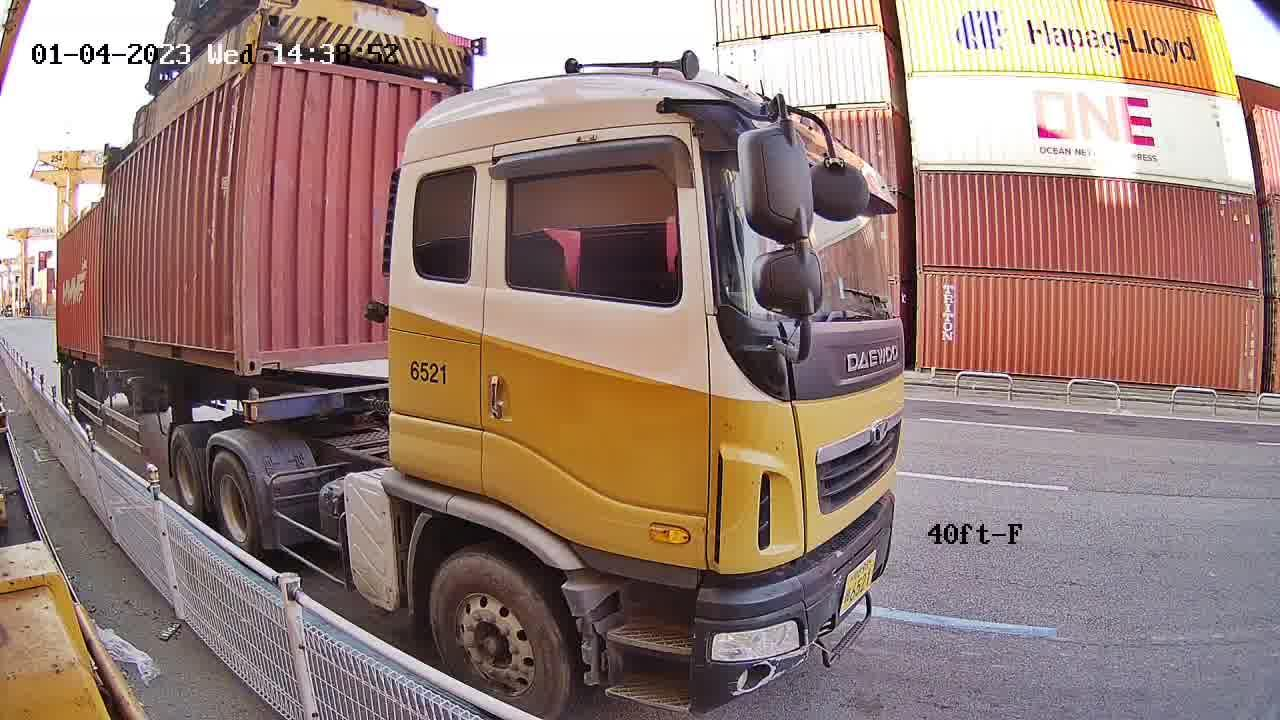Chassis: (242, 384, 389, 424)
Cone: (242, 387, 262, 420)
Hole_L: (244, 333, 277, 373)
Hole_R: (218, 337, 244, 374)
Tire: (210, 455, 256, 547), (171, 428, 205, 509)
